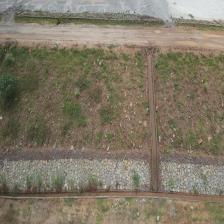rock_toe: (0, 158, 151, 192), (161, 162, 224, 195)
slope_drain: (145, 49, 158, 191)
